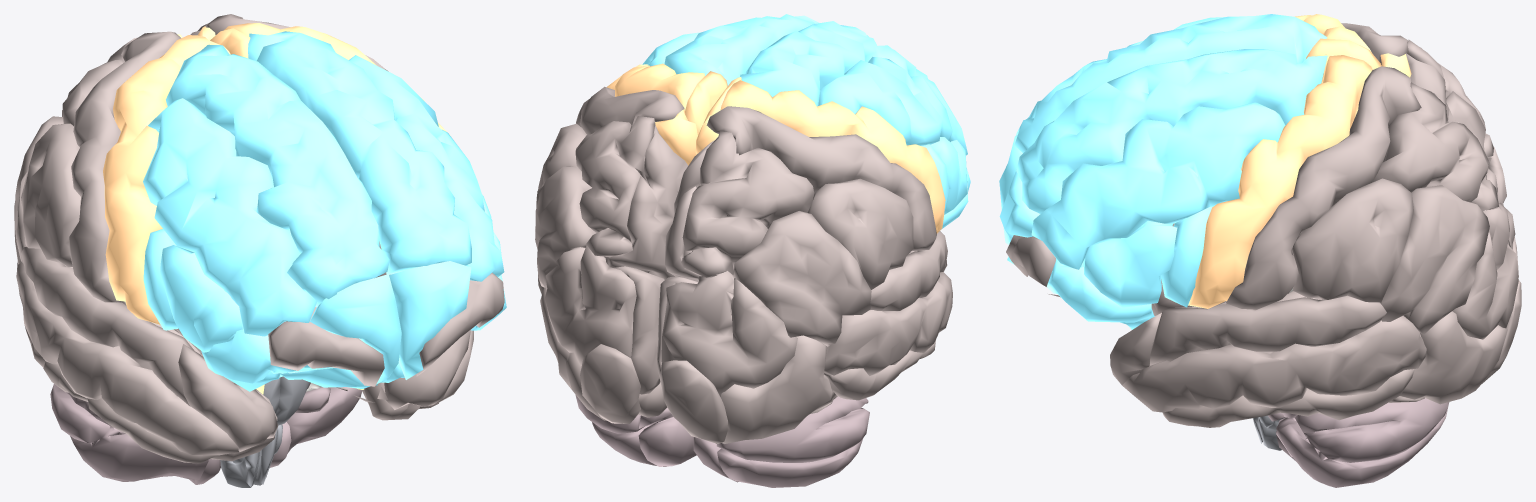
The model's file is brain_macro.glb.
The picture shows the model from 3 angles, left to right: view 1: azimuth 30°, elevation 25°; view 2: azimuth 150°, elevation 25°; view 3: azimuth 270°, elevation 25°; orthographic projection. The views are drawn at different scales.
Parts seen in each view (by area): view 1: Prefrontal_Cortex, Cortex_Hemisphere_L, Motor_Cortex, Cerebellum, Cortex_Hemisphere_R, Brainstem; view 2: Cortex_Hemisphere_L, Cortex_Hemisphere_R, Prefrontal_Cortex, Cerebellum, Motor_Cortex; view 3: Cortex_Hemisphere_R, Prefrontal_Cortex, Motor_Cortex, Cerebellum, Cortex_Hemisphere_L, Brainstem.
Part boxes in pixels (bbox=[...]): Prefrontal_Cortex: bbox=[143, 31, 506, 391]; Cortex_Hemisphere_L: bbox=[14, 31, 384, 463]; Motor_Cortex: bbox=[103, 23, 450, 324]; Cerebellum: bbox=[50, 382, 361, 484]; Cortex_Hemisphere_R: bbox=[190, 14, 504, 420]; Brainstem: bbox=[220, 376, 309, 487]; Cortex_Hemisphere_L: bbox=[657, 106, 952, 443]; Cortex_Hemisphere_R: bbox=[535, 86, 688, 423]; Prefrontal_Cortex: bbox=[642, 14, 970, 229]; Cerebellum: bbox=[575, 395, 869, 487]; Motor_Cortex: bbox=[607, 63, 945, 233]; Cortex_Hemisphere_R: bbox=[1006, 66, 1521, 427]; Prefrontal_Cortex: bbox=[999, 14, 1327, 329]; Motor_Cortex: bbox=[1188, 14, 1411, 308]; Cerebellum: bbox=[1268, 398, 1449, 487]; Cortex_Hemisphere_L: bbox=[1046, 23, 1518, 287]; Brainstem: bbox=[1253, 415, 1285, 450].
Bounding box in the file's own units: 1.52 × 1.63 × 1.87.
